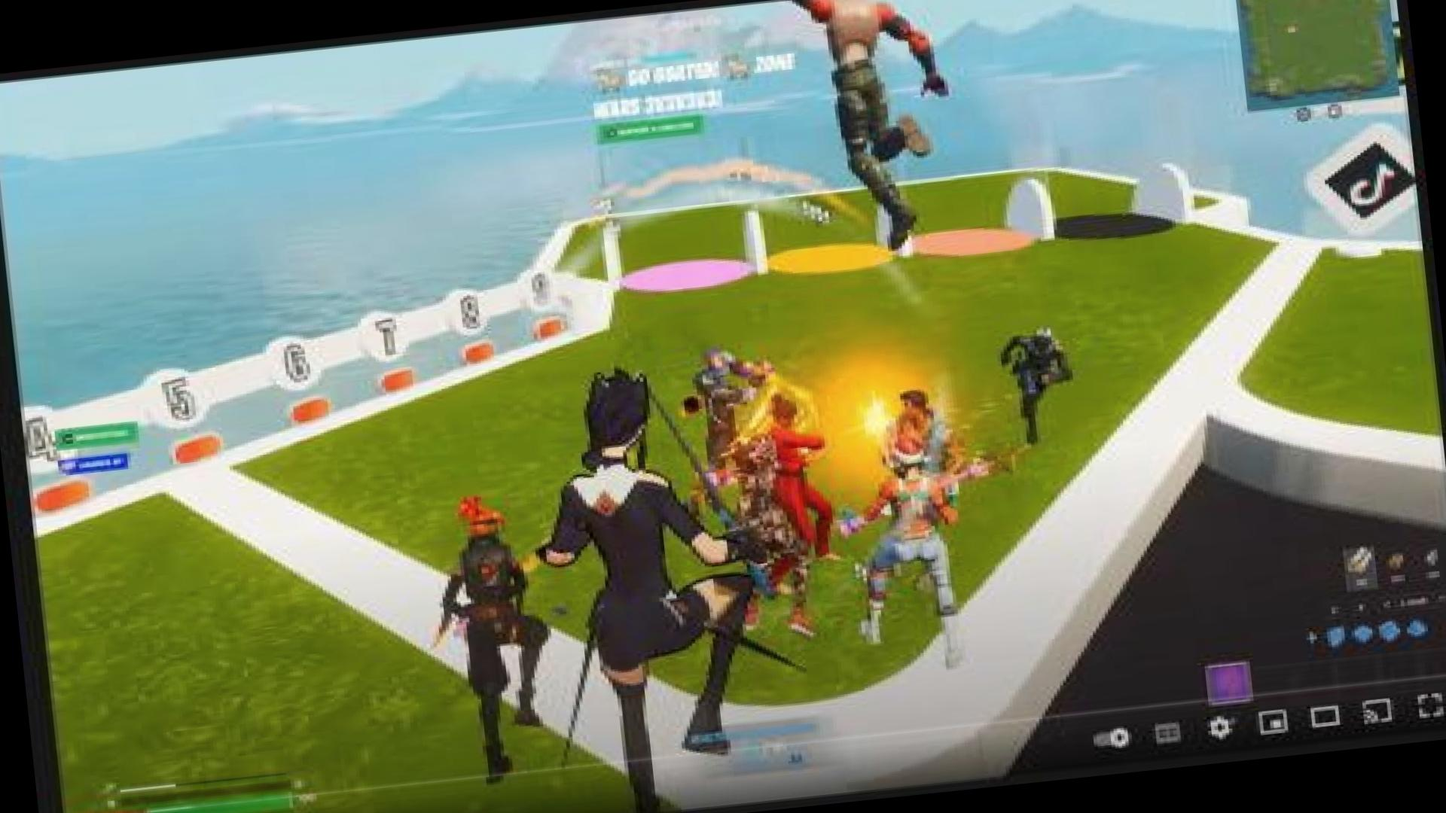player: (779, 0, 973, 250), (871, 424, 966, 651), (987, 304, 1086, 459)
